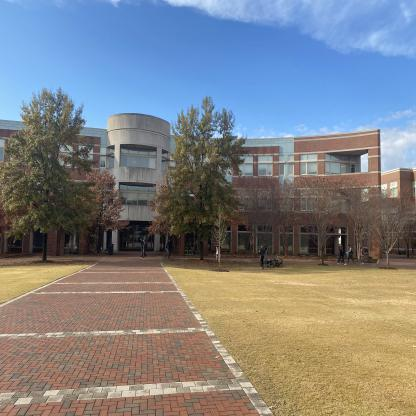EB-1: (0, 100, 388, 274)
